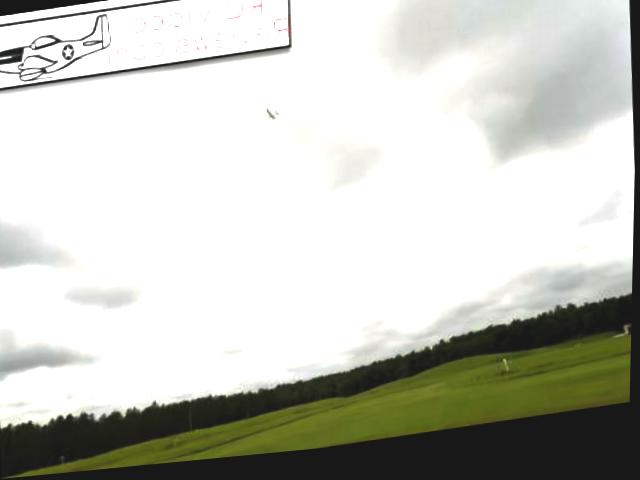uav: (257, 105, 288, 135)
